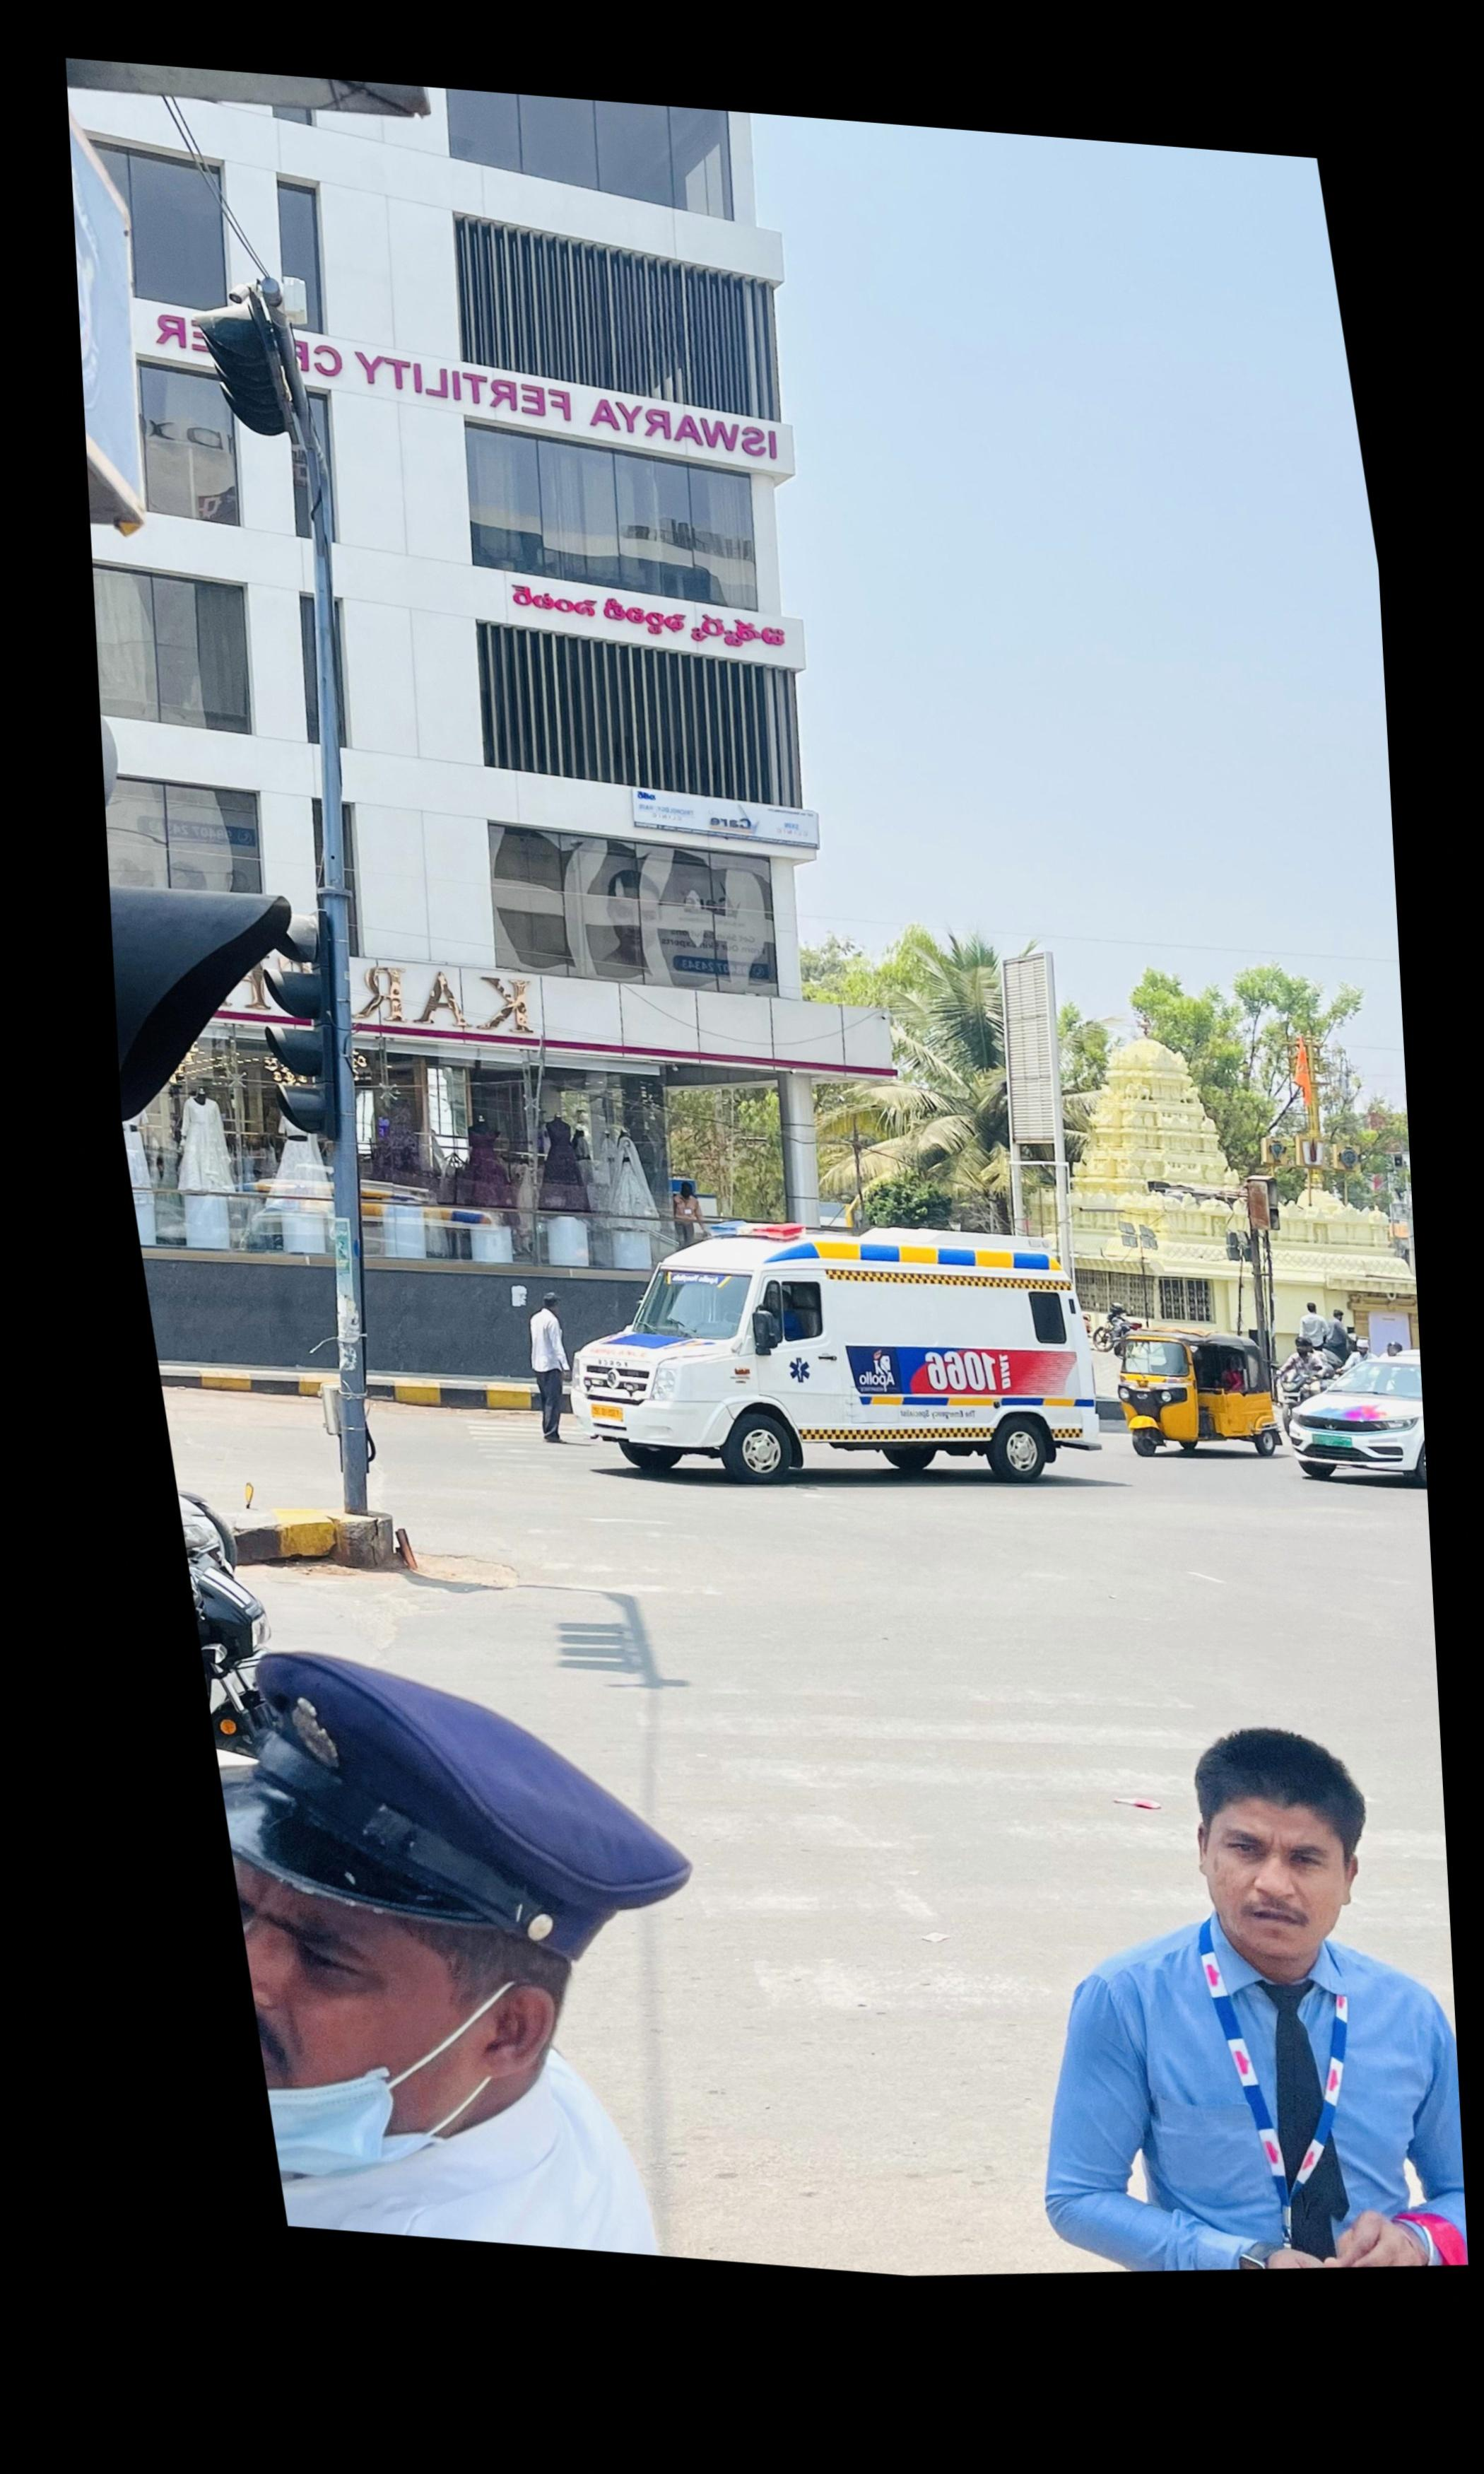ambulance: (565, 1228, 1124, 1481)
